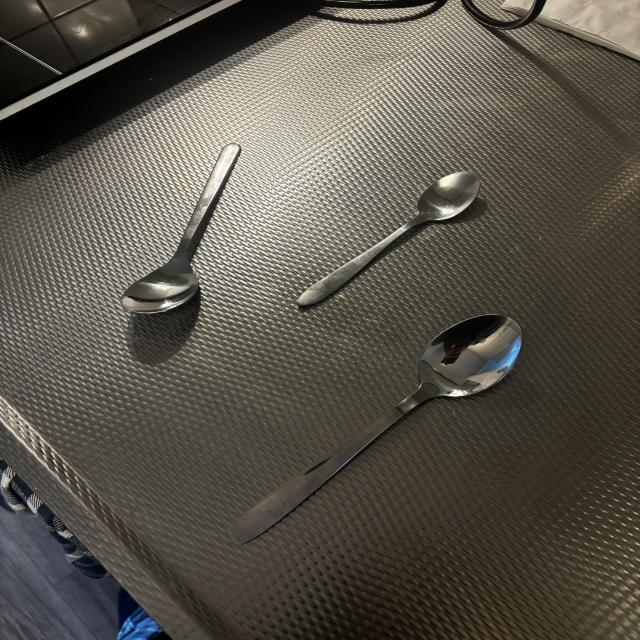spoon: (231, 316, 523, 546), (297, 172, 483, 309), (118, 145, 241, 318)
